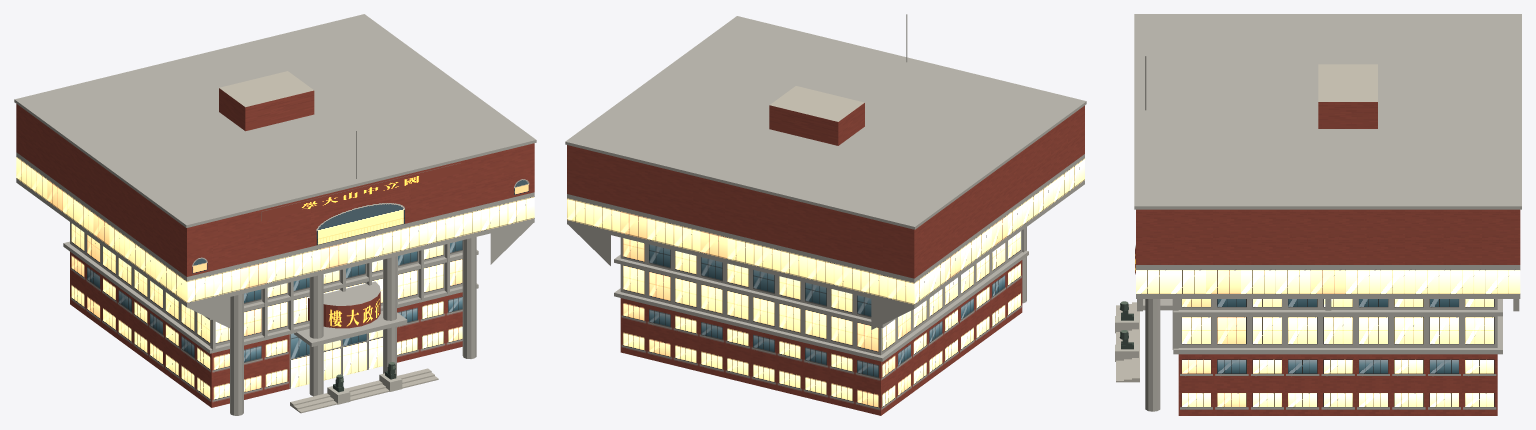
Rendered from admin.glb.
The picture shows the model from 3 angles, left to right: view 1: azimuth 30°, elevation 25°; view 2: azimuth 150°, elevation 25°; view 3: azimuth 270°, elevation 25°; orthographic projection. The views are drawn at different scales.
Parts seen in each view (by area): view 1: admin.001; view 2: admin.001; view 3: admin.001.
Part boxes in pixels (left/top/right/bottom): admin.001: left=14, top=14, right=536, bottom=415; admin.001: left=565, top=14, right=1086, bottom=415; admin.001: left=1115, top=14, right=1521, bottom=415.
Size of the model in its own units: 45.7 by 31.95 by 40.85.
1 material, 1 textured.
